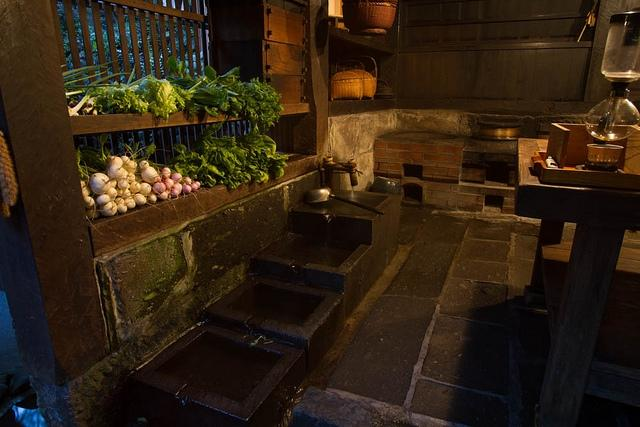green onion: (66, 73, 131, 95), (156, 191, 180, 226), (68, 87, 94, 116), (62, 66, 108, 77), (130, 182, 141, 194), (164, 178, 174, 188), (110, 180, 117, 188)
